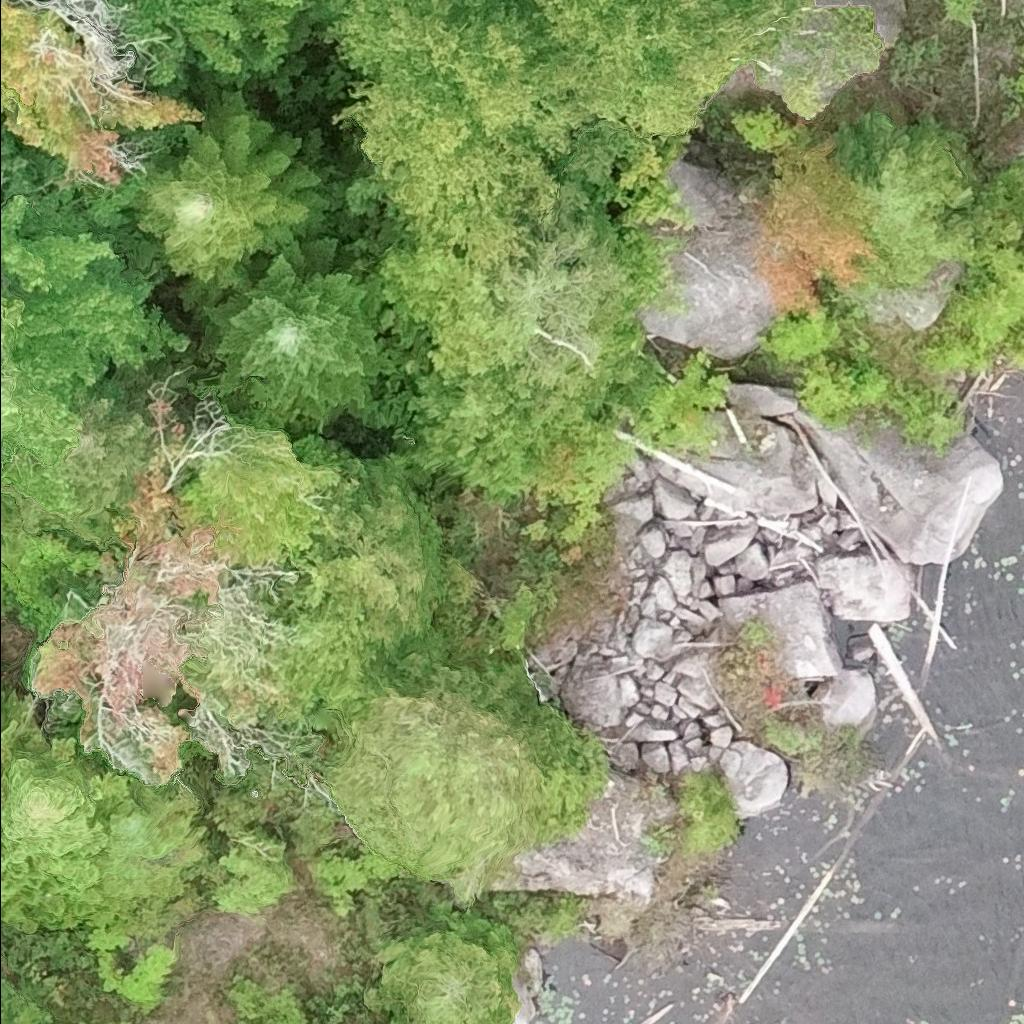crown: (312, 0, 600, 268), (0, 128, 197, 514), (317, 654, 550, 901), (157, 234, 398, 446), (133, 71, 354, 290), (0, 0, 210, 192), (525, 0, 797, 136), (0, 688, 134, 934), (479, 225, 641, 400), (320, 456, 446, 656), (7, 369, 149, 545), (751, 128, 881, 316), (835, 106, 975, 277), (268, 587, 415, 734), (123, 0, 319, 97), (97, 781, 207, 926), (365, 920, 516, 1023), (0, 983, 50, 1023), (390, 1017, 400, 1023)
